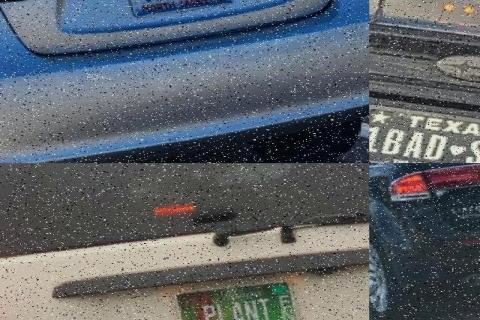LicensePlate: (368, 104, 478, 162), (170, 277, 297, 319)
